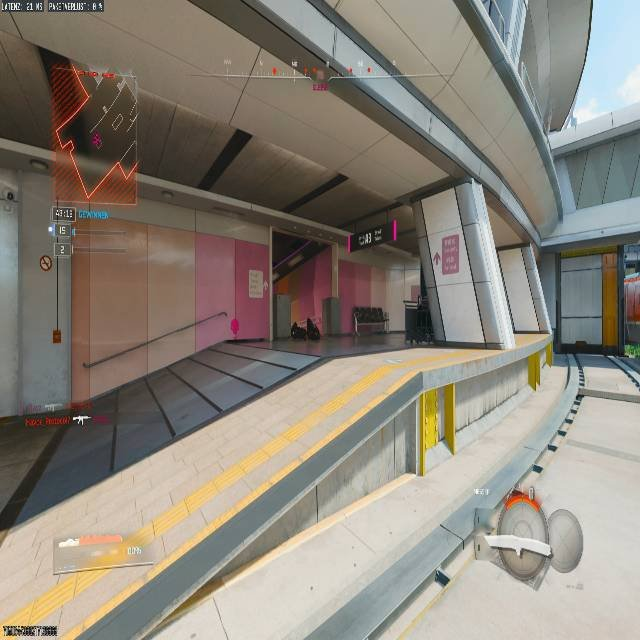player: (290, 315, 322, 345)
